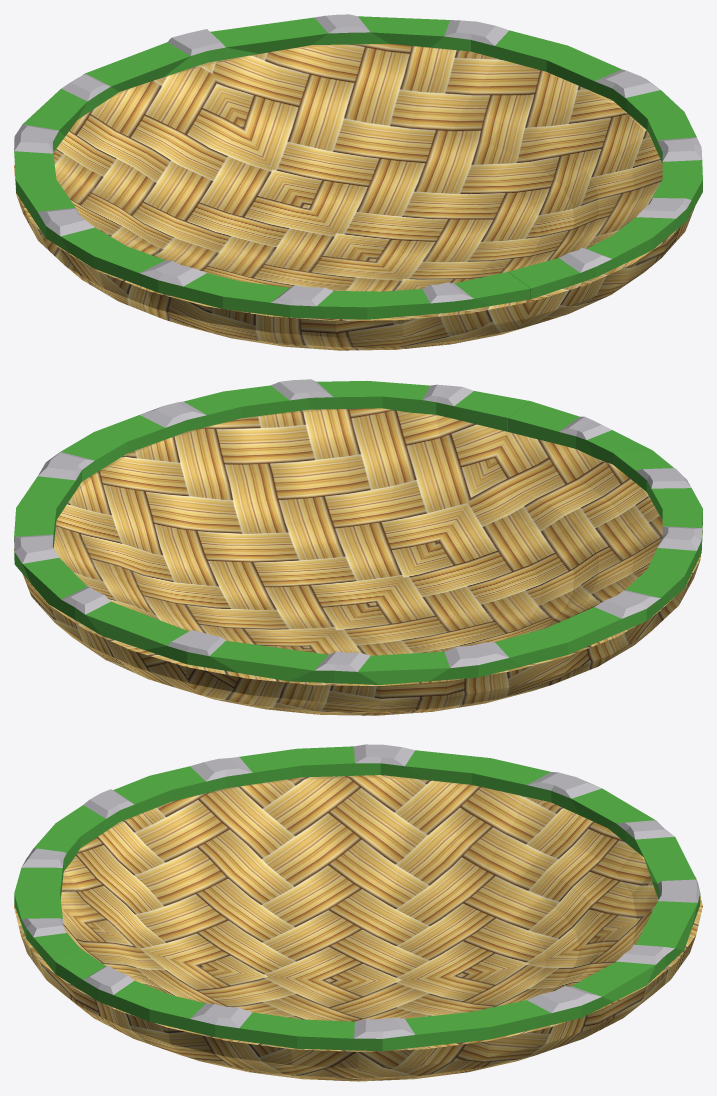
File: zaru2.fbx
3 renders of one model, top to bottom at view 1: azimuth 30°, elevation 25°; view 2: azimuth 150°, elevation 25°; view 3: azimuth 270°, elevation 25°, orthographic.
Visible parts, largest first — view 1: 球; view 2: 球; view 3: 球.
Boxes of the visible parts, x1=… form: 球: x1=14, y1=14, x2=702, y2=350; 球: x1=14, y1=379, x2=702, y2=715; 球: x1=14, y1=744, x2=702, y2=1081.
Bounding box in the file's own units: 25.24 × 4.65 × 25.12.
3 materials, 1 textured.
